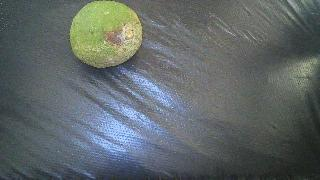DESECHO: (70, 1, 142, 68)
